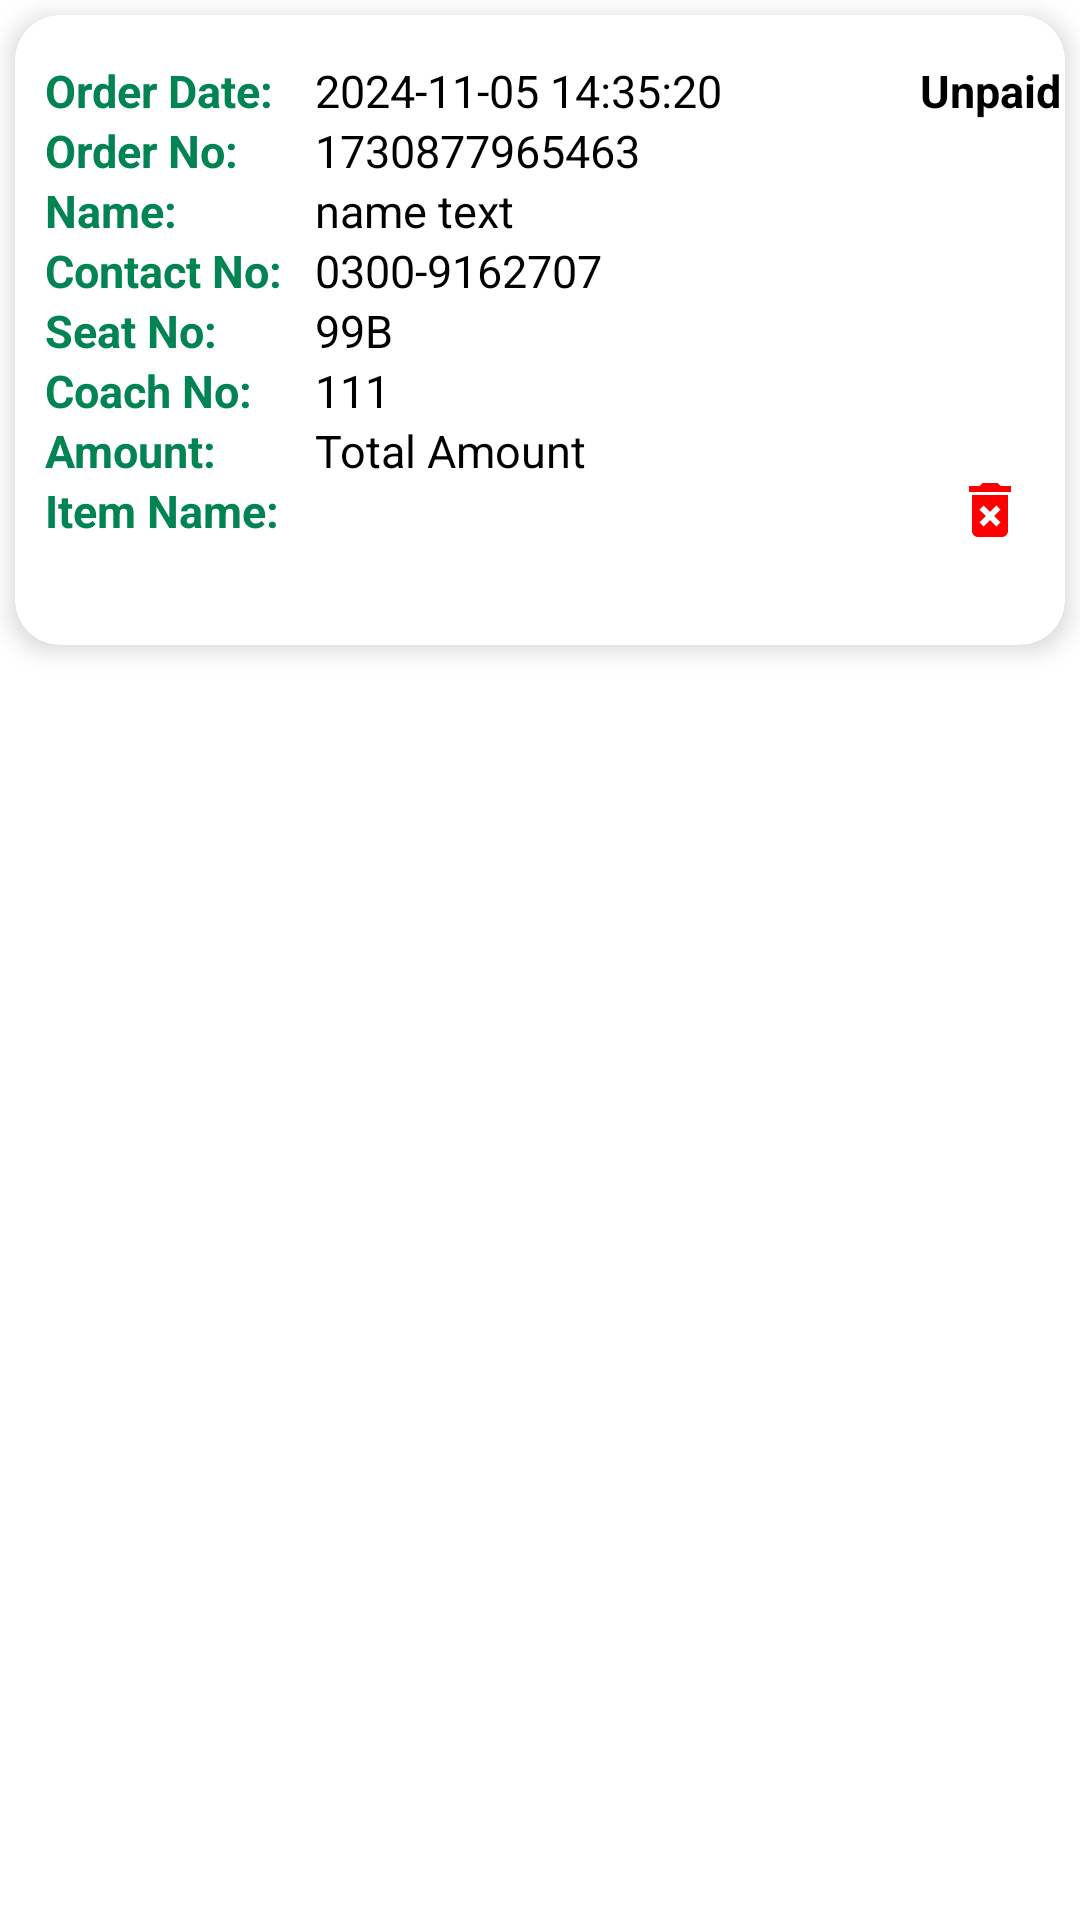

Icon click points for this 1080x1920 phone screenshot, format [x,y]:
delete: [990,510]
